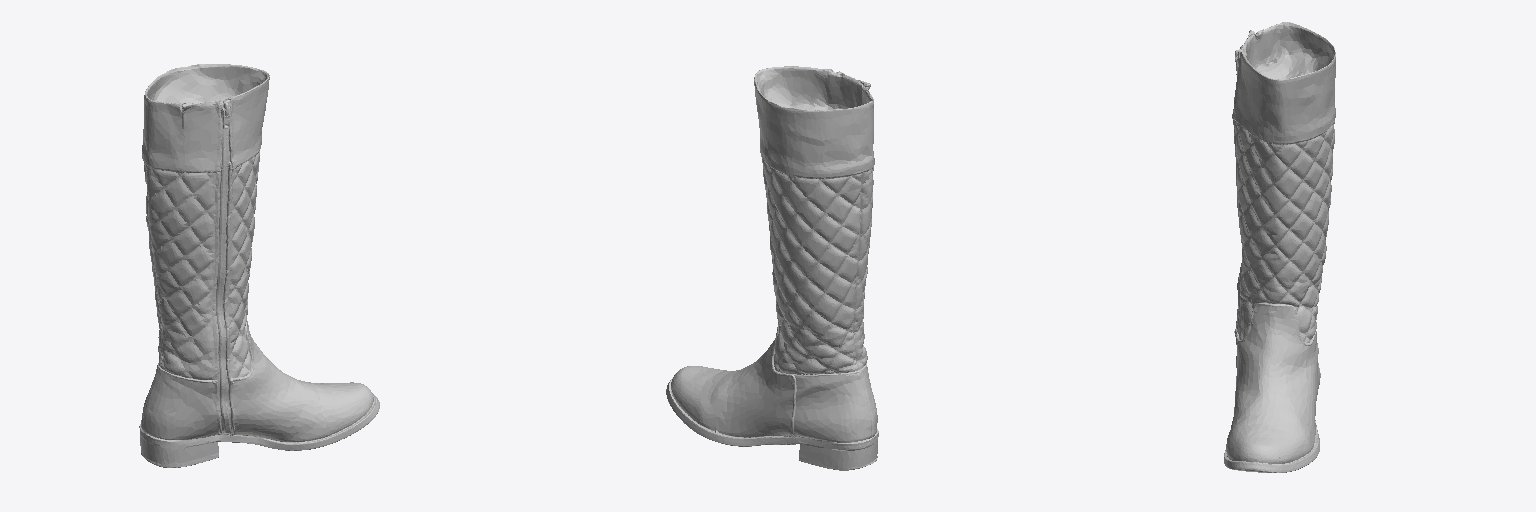
The model's file is sh_coralineY339.obj.
3 renders of one model, left to right at view 1: azimuth 30°, elevation 25°; view 2: azimuth 150°, elevation 25°; view 3: azimuth 270°, elevation 25°, orthographic.
Parts seen in each view (by area): view 1: sh_coralineY339; view 2: sh_coralineY339; view 3: sh_coralineY339.
Part boxes in pixels (bbox=[...]): sh_coralineY339: bbox=[139, 64, 379, 467]; sh_coralineY339: bbox=[666, 66, 878, 470]; sh_coralineY339: bbox=[1224, 22, 1335, 472].
Bounding box in the file's own units: 0.2535 × 0.4069 × 0.1129.